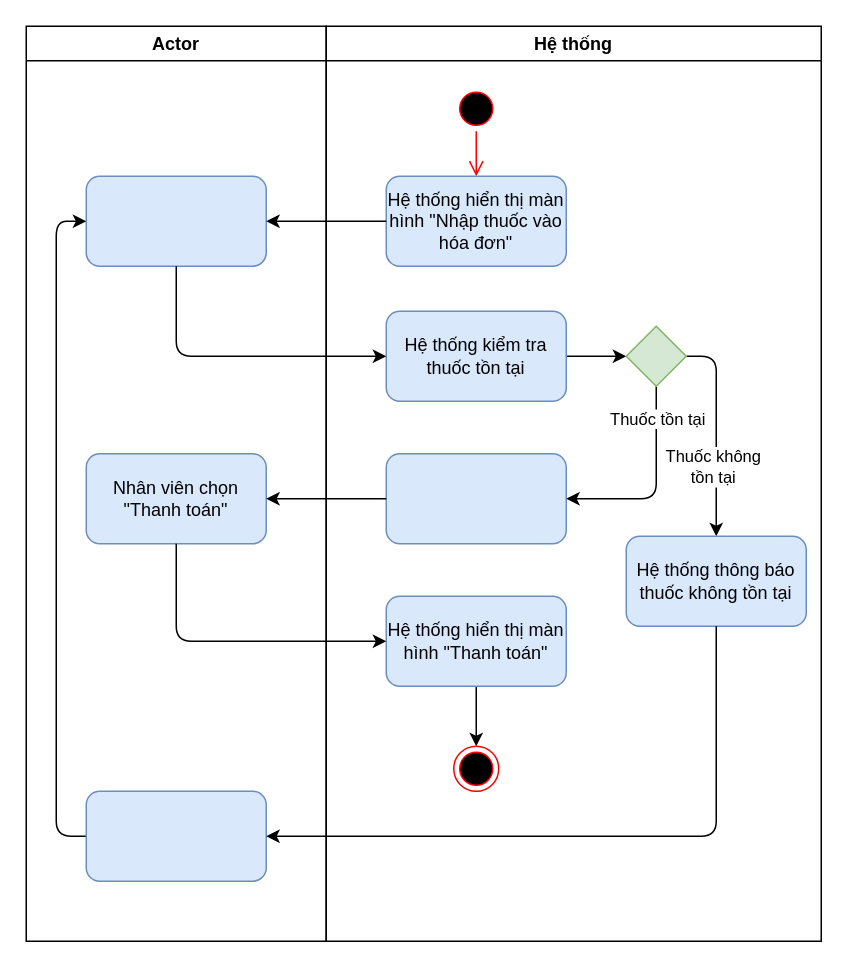
Image size: 848x968. Some labels were removed from this diagram. The shapes that lost their labels are listed below. From the top down, each one's box as (x1, y1, x2, y2) in pixels, then its label:
(85, 175, 266, 266): Nhân viên nhập thuốc vào hệ thống
(385, 452, 566, 544): Hệ thống thêm thuốc vào hóa đơn
(85, 790, 266, 881): Nhân viên xác nhận
